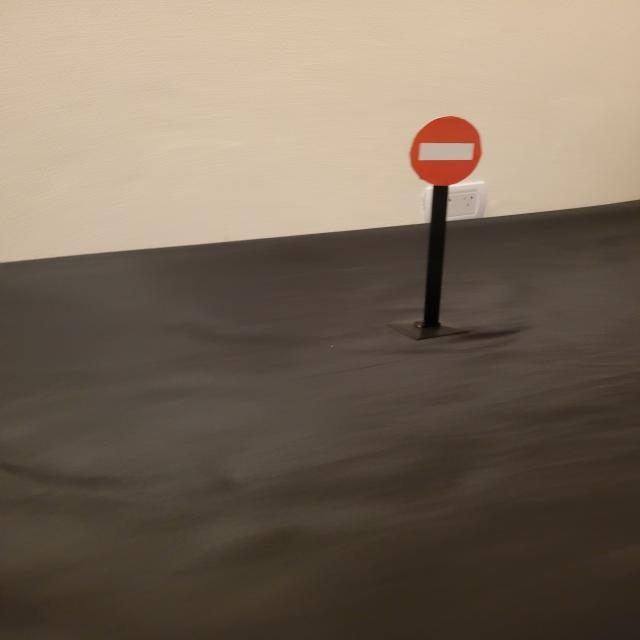no_entry: (408, 115, 484, 187)
